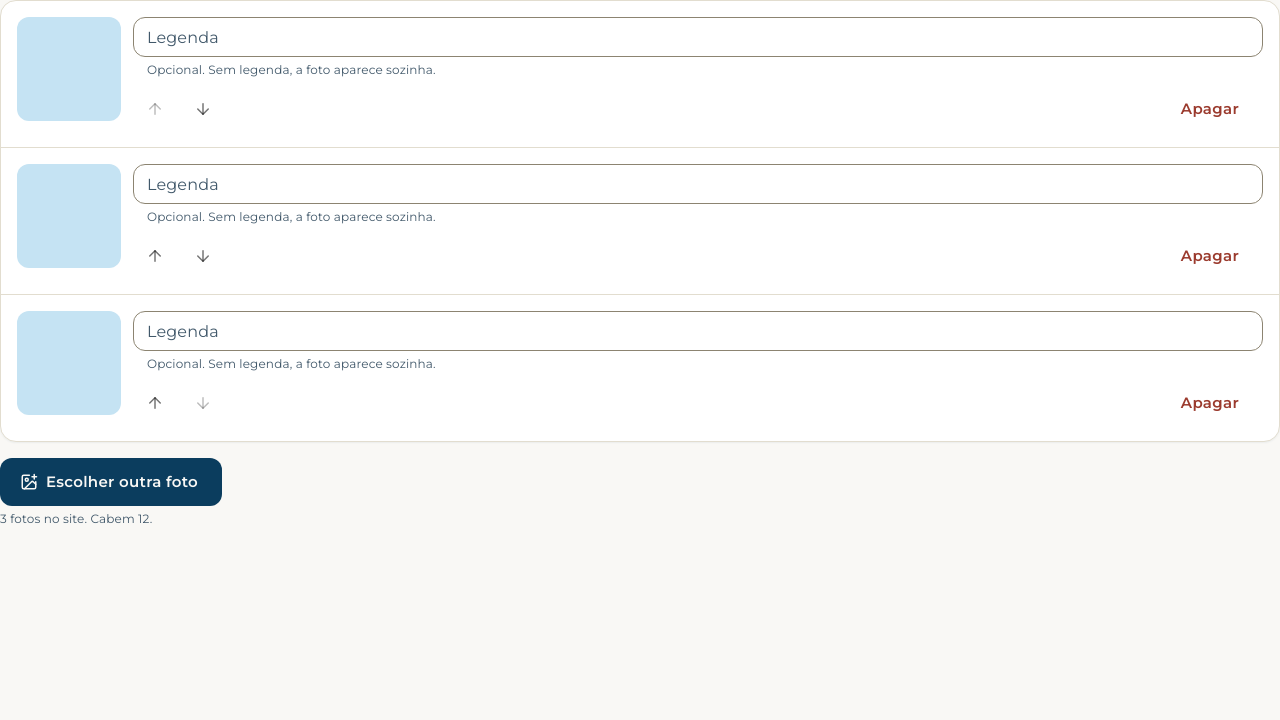
Test: apagar diz o que faz antes de fazer › **a falha no meio manda apertar de novo, porque é isso que conserta**
This screenshot has width=1280, height=720.
Click the 1st button "Apagar" at (1210, 109), box left=1157, top=87, right=1263, bottom=131
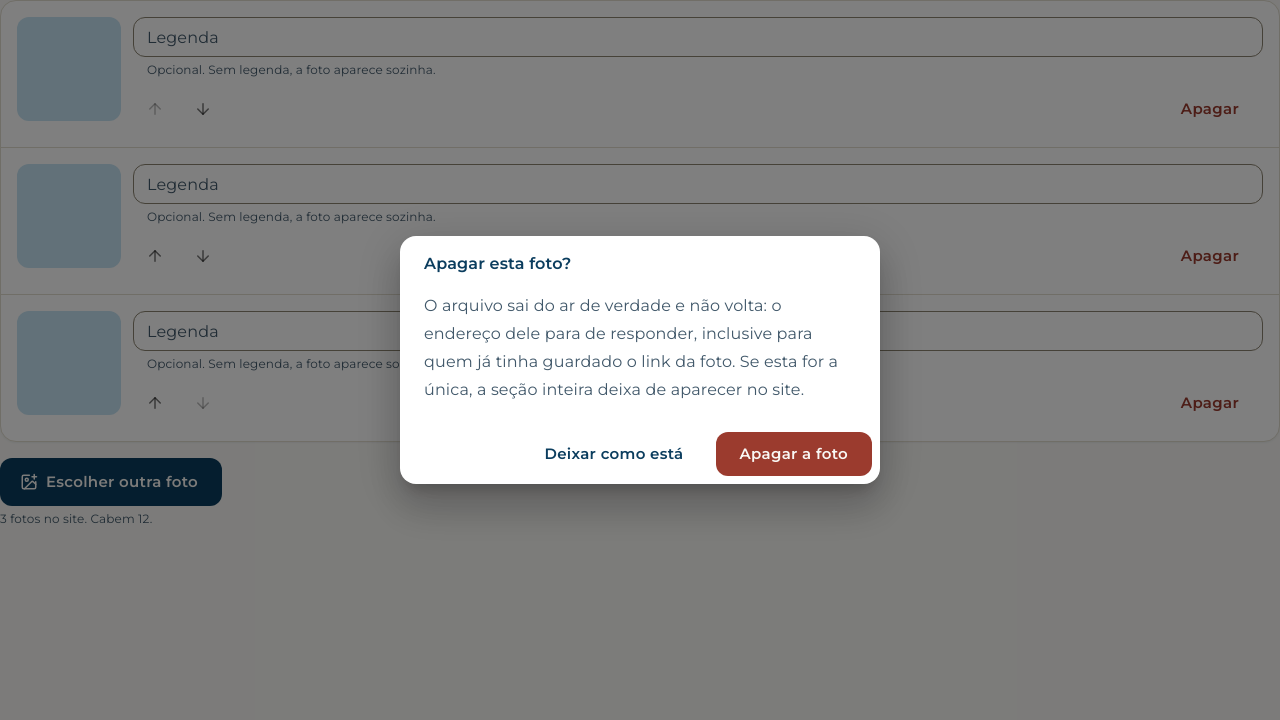
Click the button "Apagar a foto" at (794, 454), box left=716, top=432, right=872, bottom=476
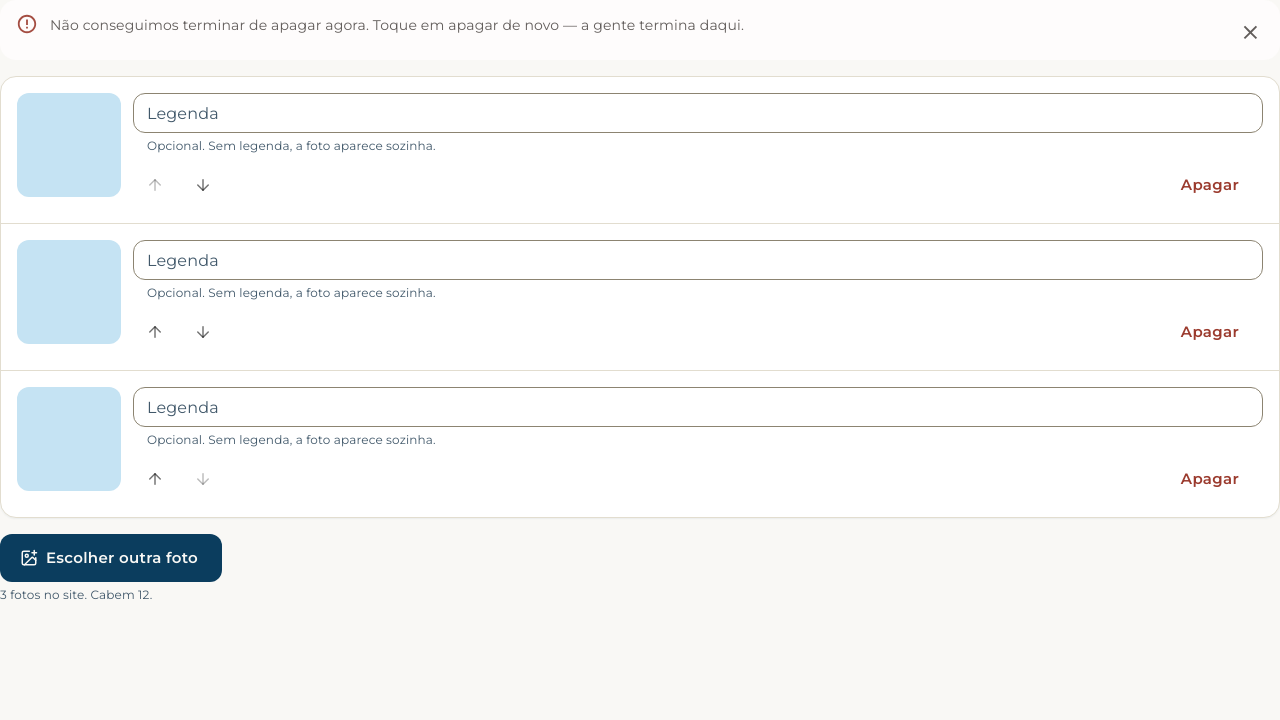
Expected: the text "Toque em apagar de novo" is shown, left=50, top=16, right=744, bottom=34
